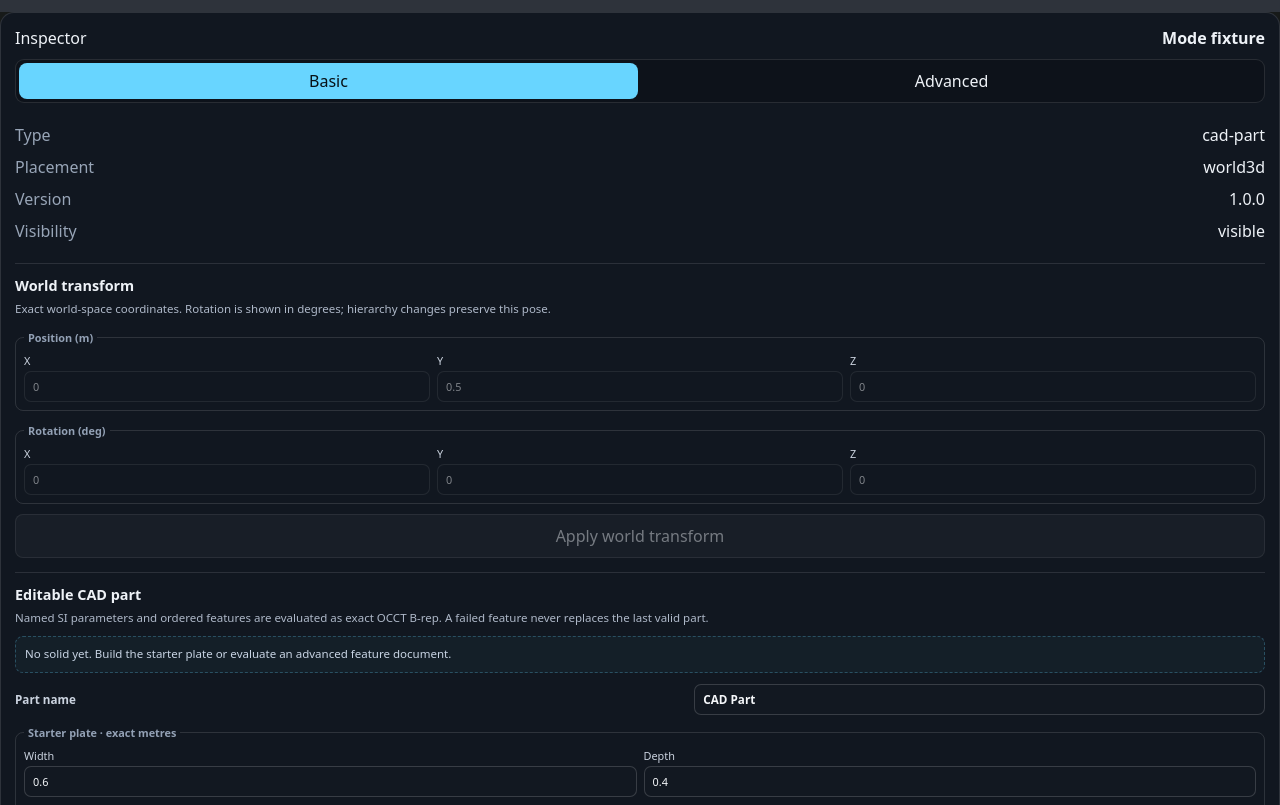
Test case: Workspace Inspector detail modes › defaults to a useful Basic surface and reveals technical documents only in Advanced
Expected: the heading "World transform" is shown, [15, 276, 134, 295]
Expected: the heading "Editable CAD part" is shown, [15, 585, 141, 604]
Click the button "Advanced": (952, 81) [642, 63, 1261, 99]
(page scrolled)
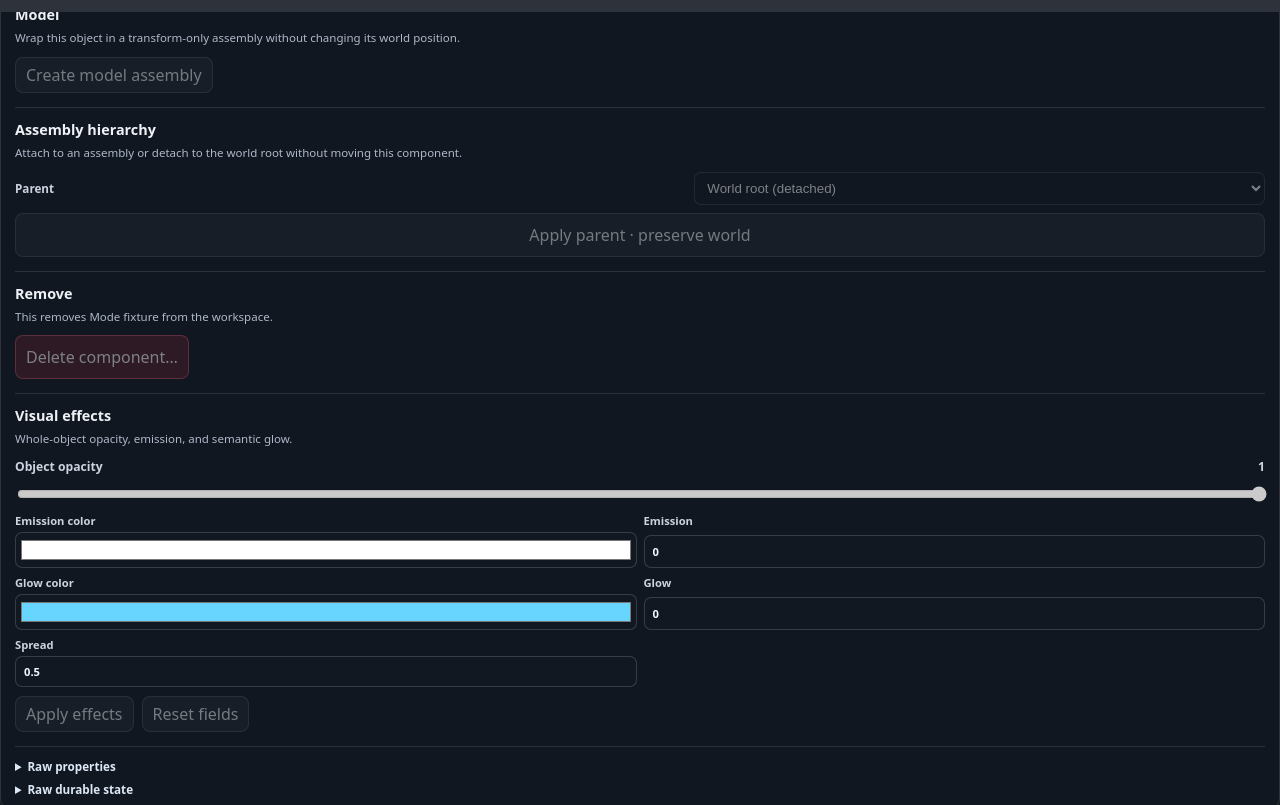
Now the heading "Raw properties" is shown, box [27, 759, 116, 774]
